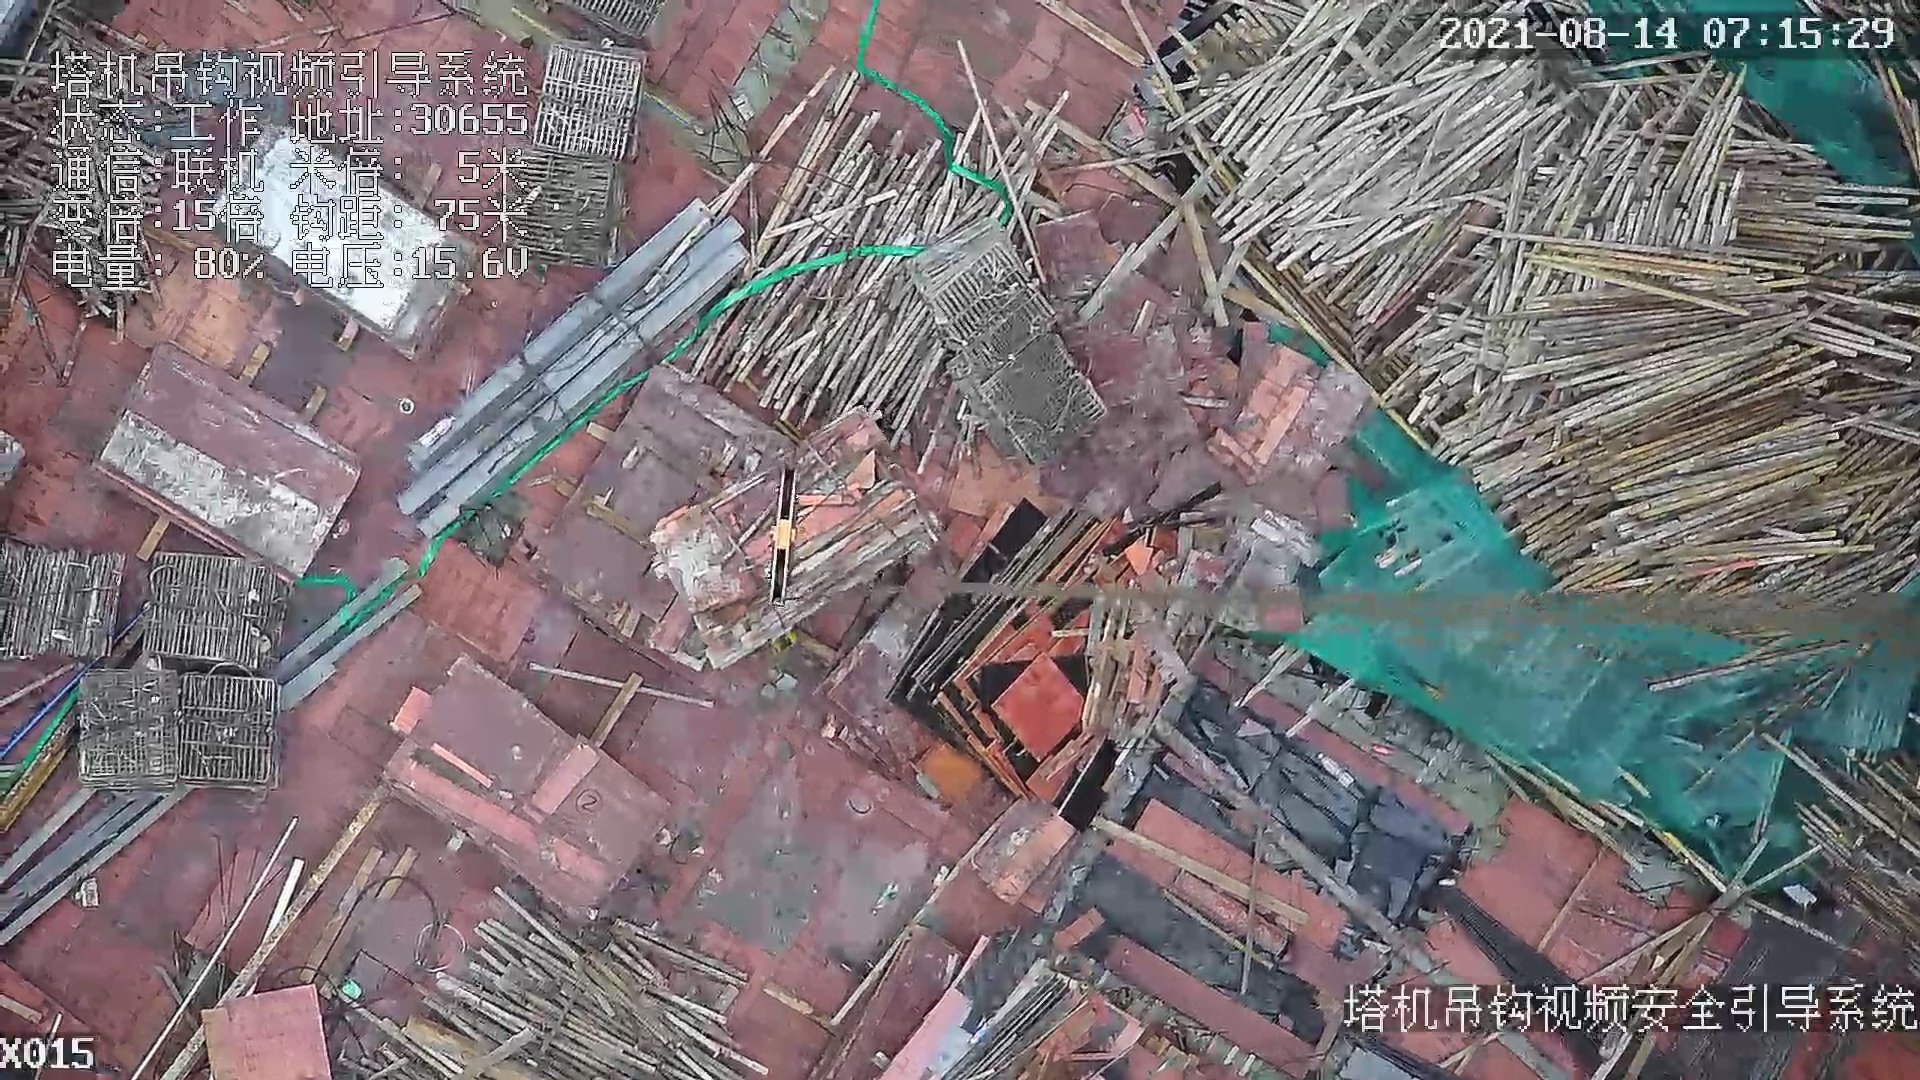hook: (756, 462, 806, 613)
